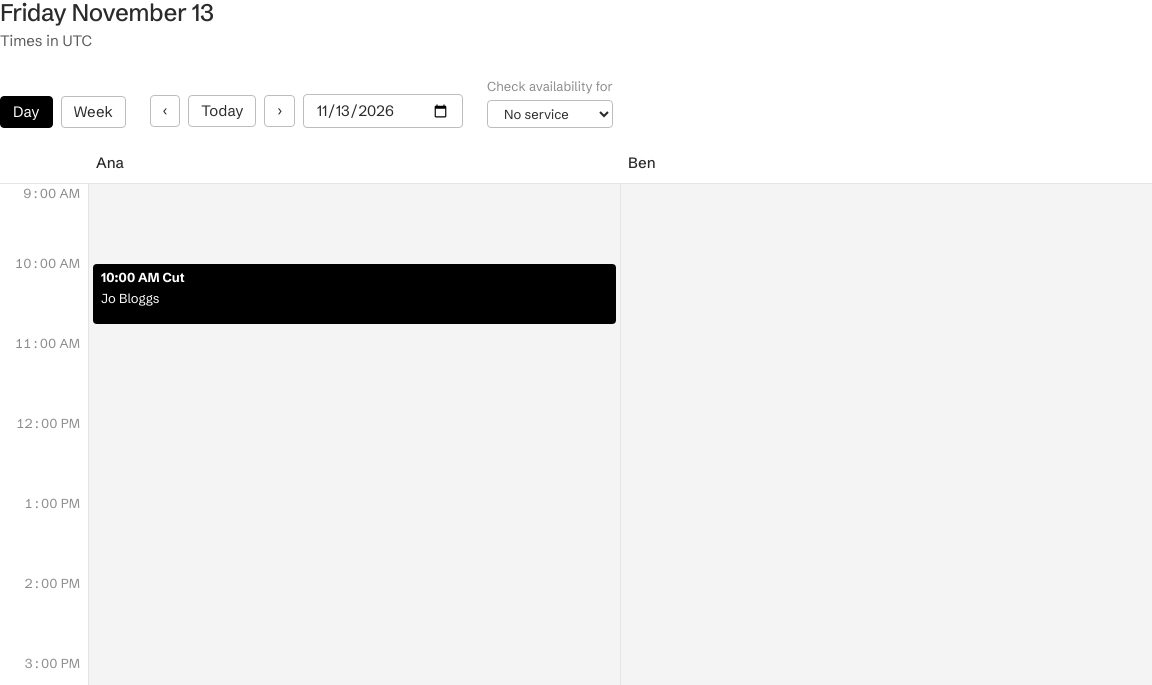
Test: Calendar › erases a customer's details only after a second click, and explains a refusal
Click the button "10:00 AM Cut Jo Bloggs" at point(130, 277), box [93,264,616,324]
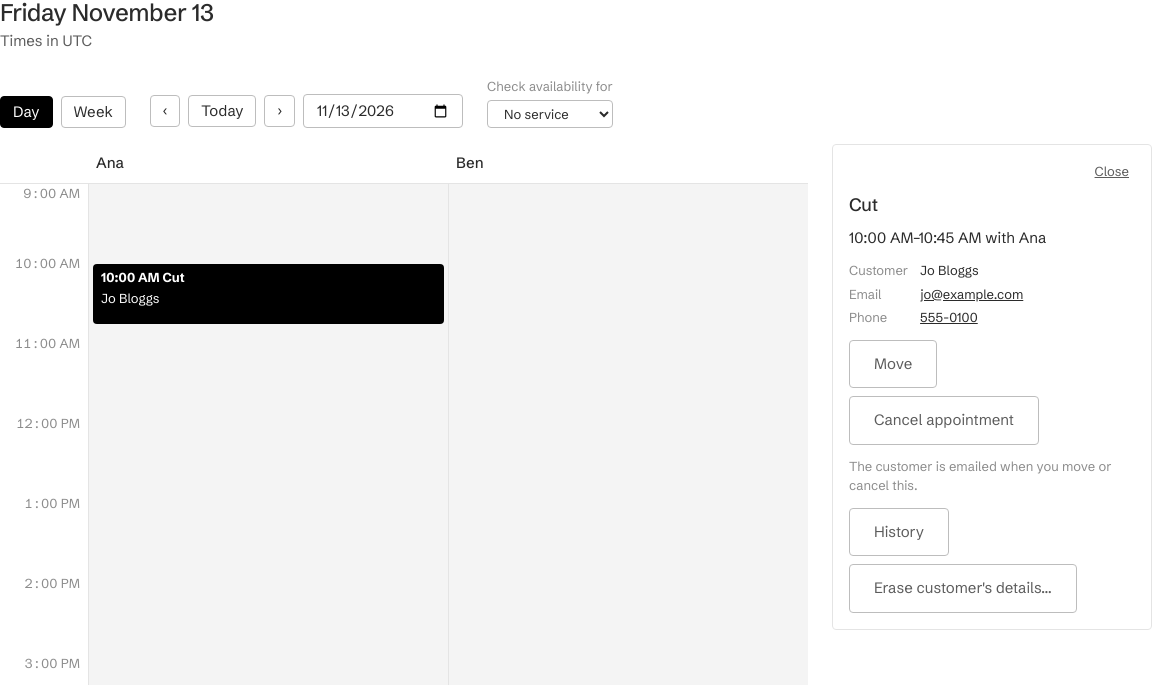
Click the button "Erase customer's details…" at point(963, 588), box [849,564,1077,613]
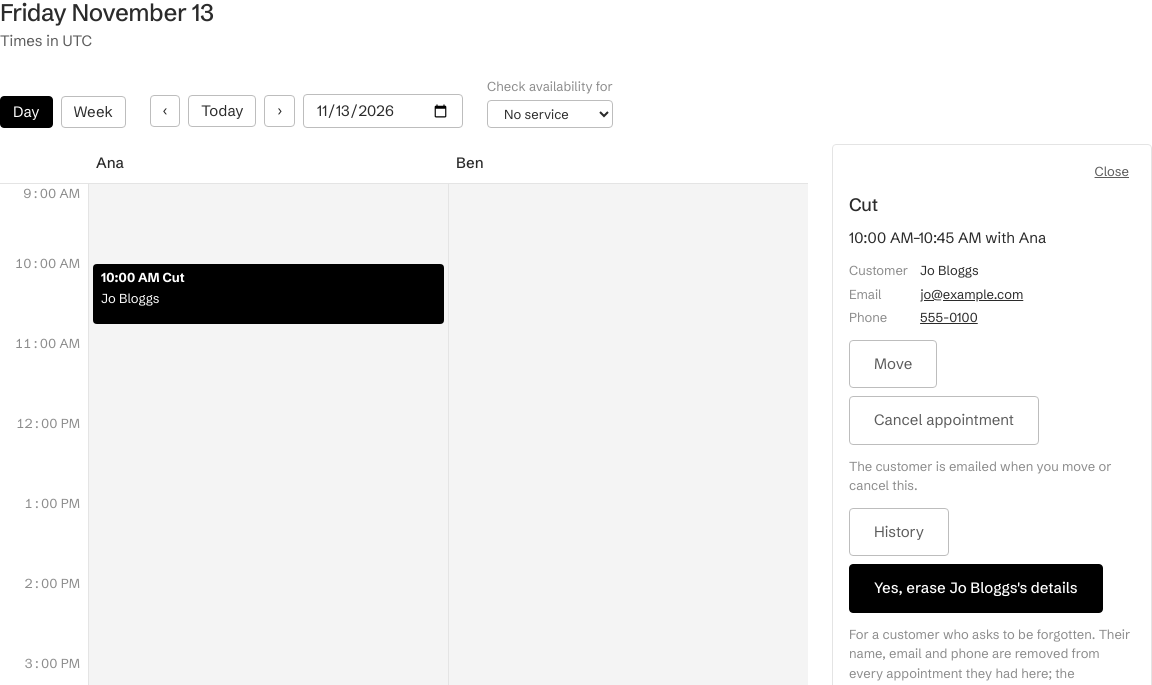
Click the button "Yes, erase Jo Bloggs's details" at point(976, 588), box [849,564,1103,613]
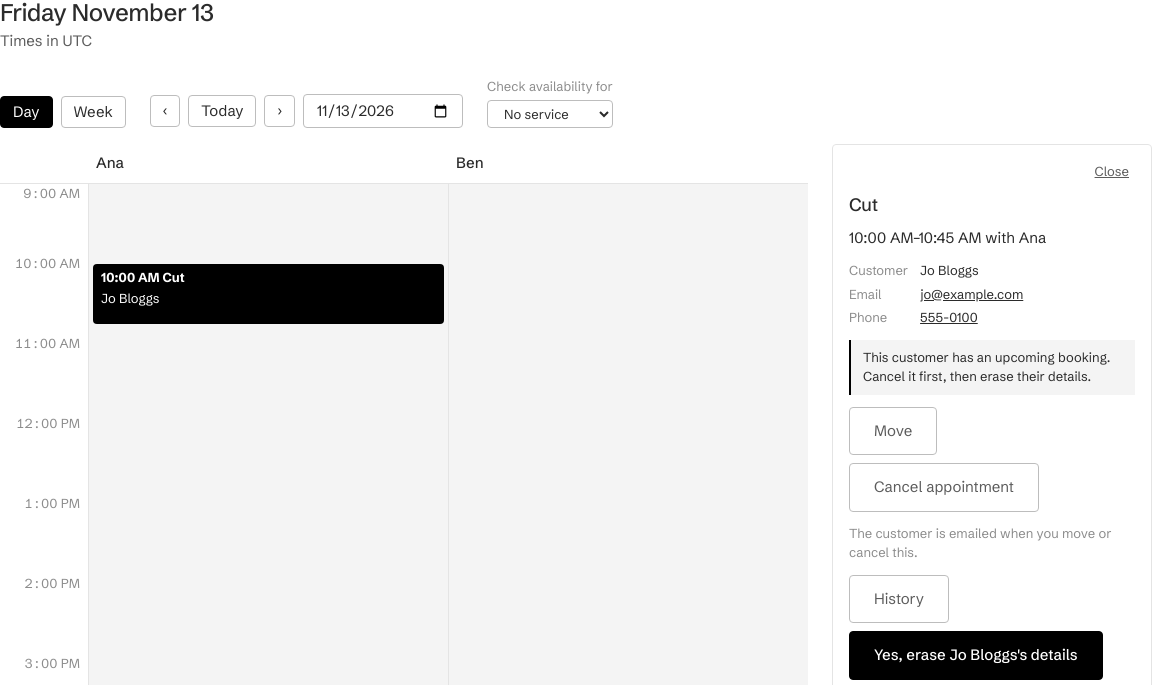
Now the text "has an upcoming booking. Cancel it first" is shown, box [863,349,1110,384]
